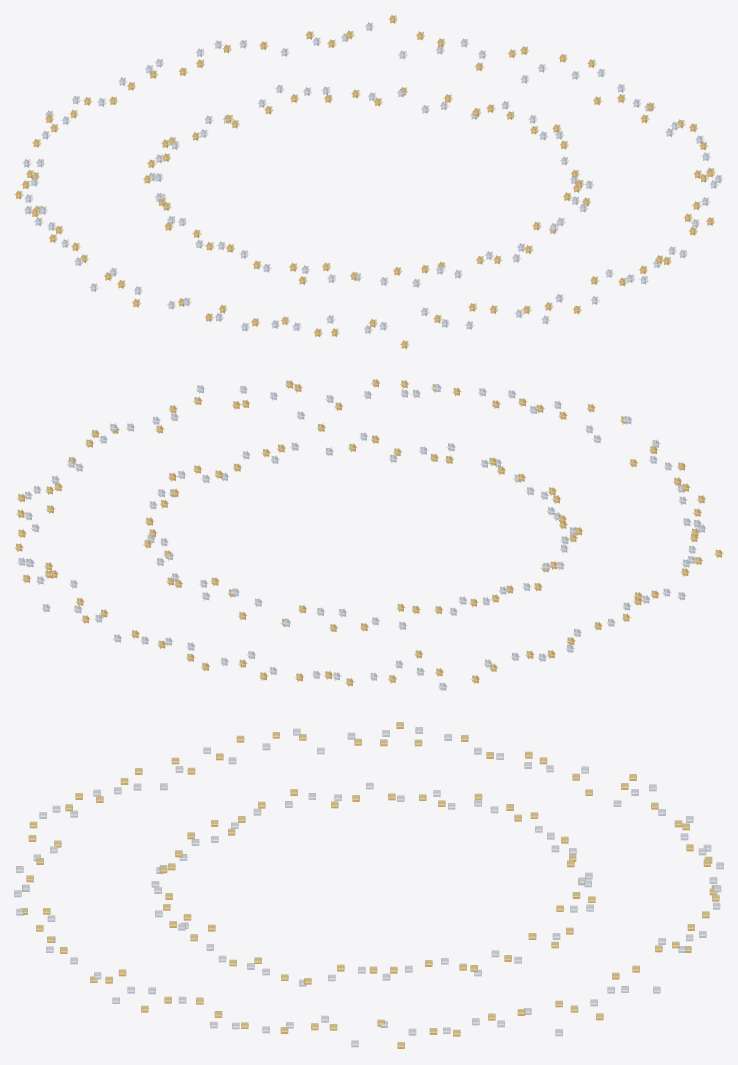
Rendered from fw_ring_pink_gold_c.glb.
The picture shows the model from 3 angles, top to bottom: view 1: azimuth 30°, elevation 25°; view 2: azimuth 150°, elevation 25°; view 3: azimuth 270°, elevation 25°; orthographic projection.
Parts seen in each view (by area): view 1: spire; view 2: spire; view 3: spire.
Boxes of the visible parts, x1,y1,x2,y2 form: spire: (14,14,723,348); spire: (14,378,723,690); spire: (14,722,723,1048).
Size of the model in its own units: 21.98 by 1.76 by 22.3.
Materials: 2 (2 with a texture image).
